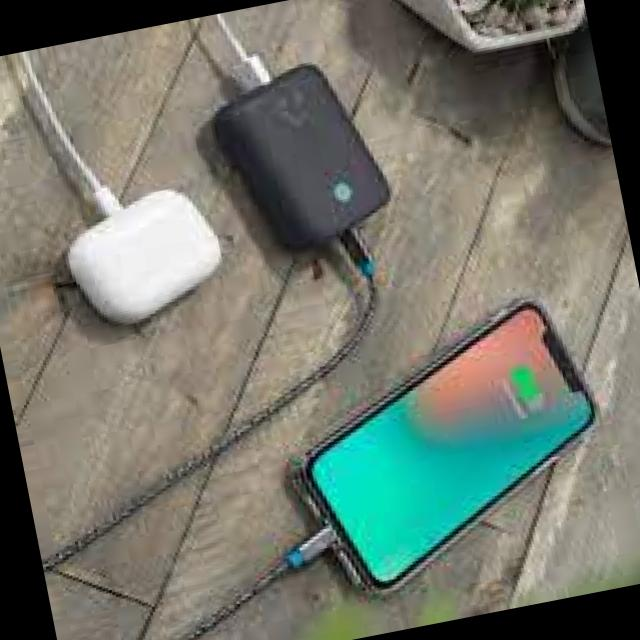portable-charger: (202, 46, 408, 266)
